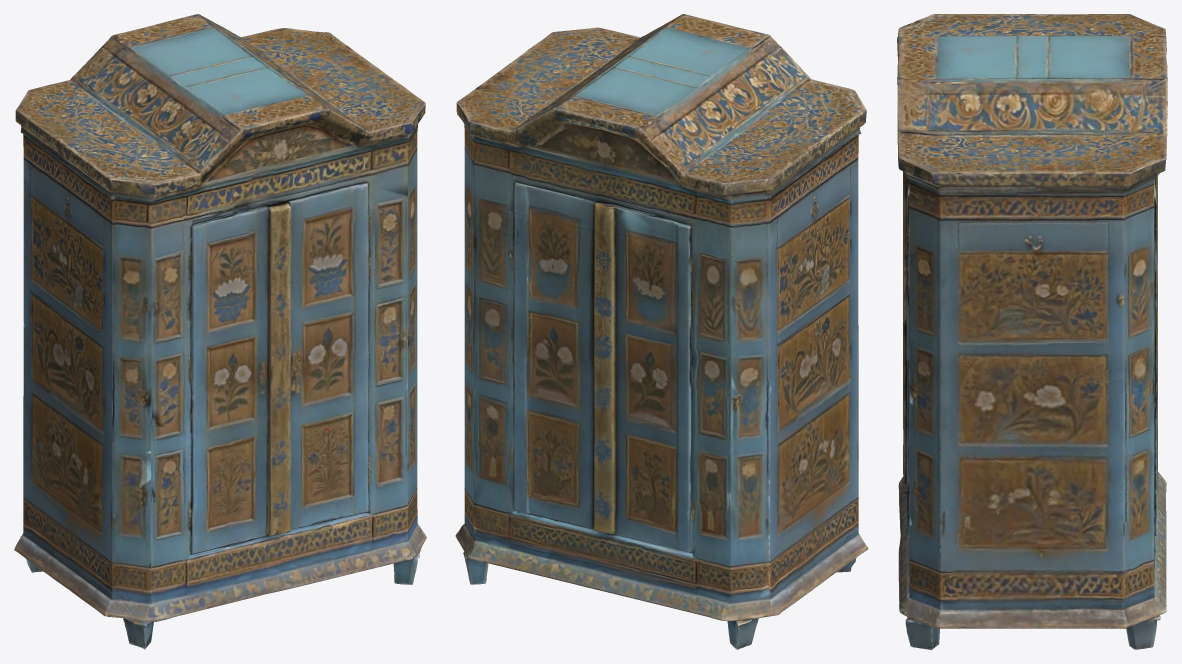
The model's file is wardrobe_floral_folk_armoire_alicean.glb.
The picture shows the model from 3 angles, left to right: view 1: azimuth 30°, elevation 25°; view 2: azimuth 150°, elevation 25°; view 3: azimuth 270°, elevation 25°; orthographic projection. The views are drawn at different scales.
Parts seen in each view (by area): view 1: Object_4; view 2: Object_4; view 3: Object_4.
Boxes of the visible parts, x1,y1,x2,y2 form: Object_4: (14, 14, 426, 649); Object_4: (455, 14, 868, 649); Object_4: (897, 14, 1167, 649).
Size of the model in its own units: 1.35 by 2 by 0.9407.
Materials: 1 (1 with a texture image).
